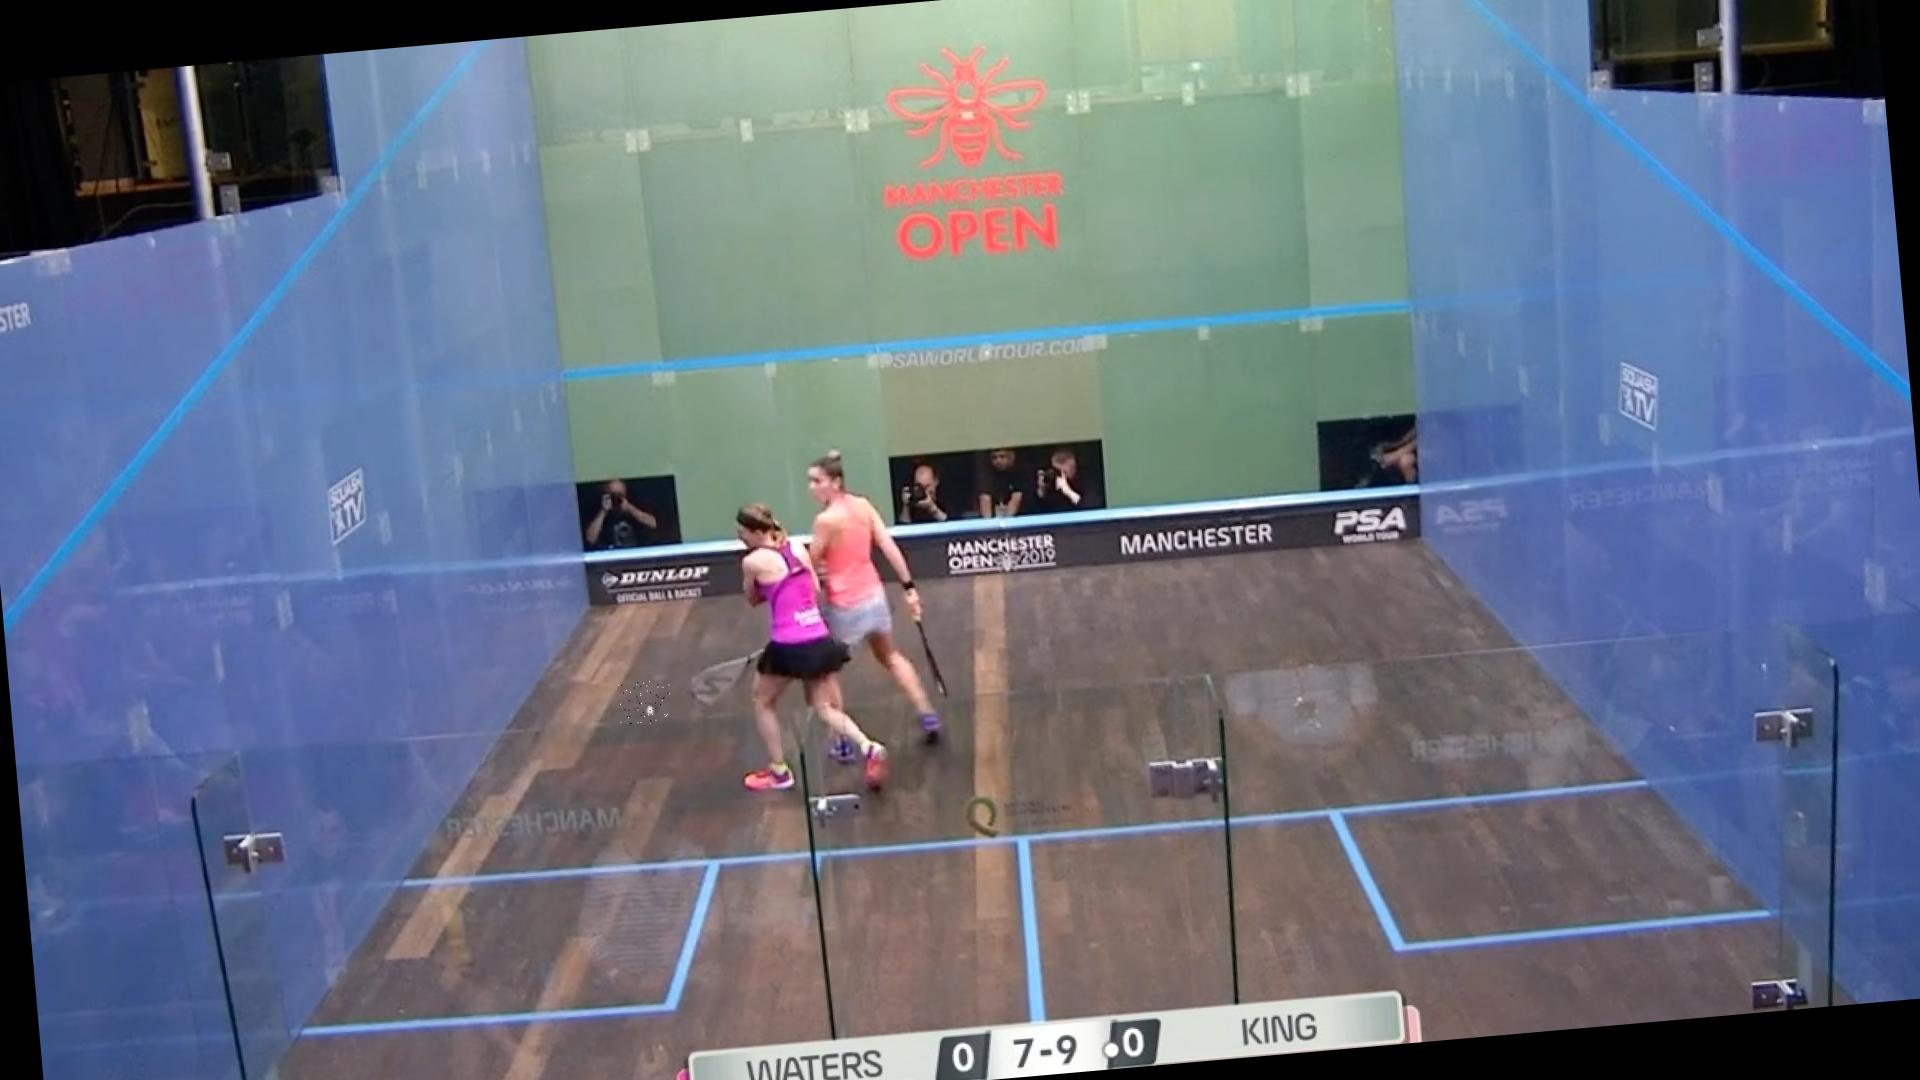Squash-Ball: (617, 679, 673, 728)
